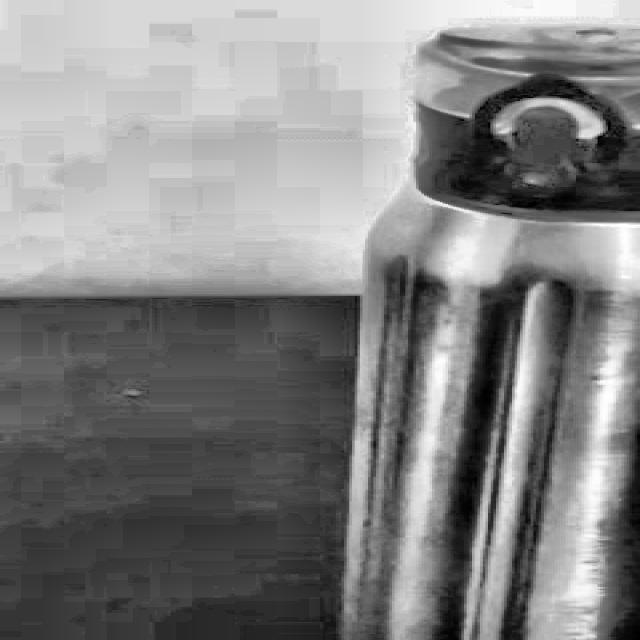bottle: (335, 24, 640, 640)
